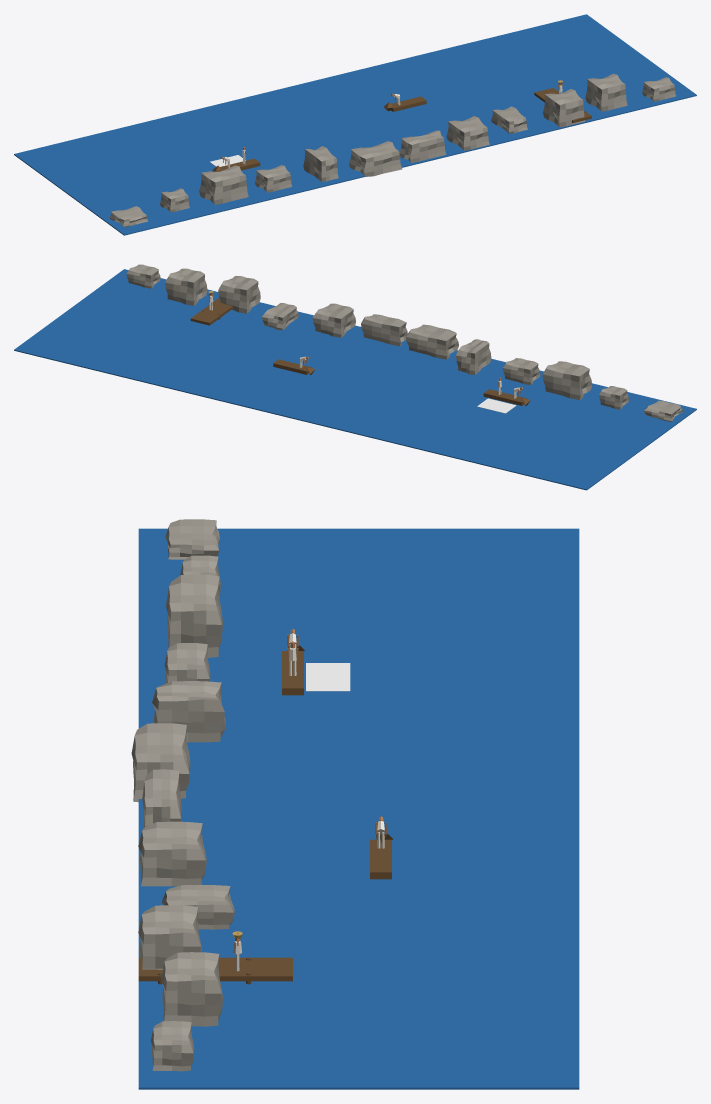
The model's file is grecia_bg_near.fbx.
The picture shows the model from 3 angles, top to bottom: view 1: azimuth 30°, elevation 25°; view 2: azimuth 150°, elevation 25°; view 3: azimuth 270°, elevation 25°; orthographic projection. The views are drawn at different scales.
Visible parts, largest first — view 1: grecia_bg_near; view 2: grecia_bg_near; view 3: grecia_bg_near.
Part boxes in pixels (box(x1,y1,x2,y2)): grecia_bg_near: box(14, 14, 696, 235); grecia_bg_near: box(14, 264, 696, 490); grecia_bg_near: box(131, 519, 579, 1089).
Bounding box in the file's own units: 60 × 2.96 × 20.32.
